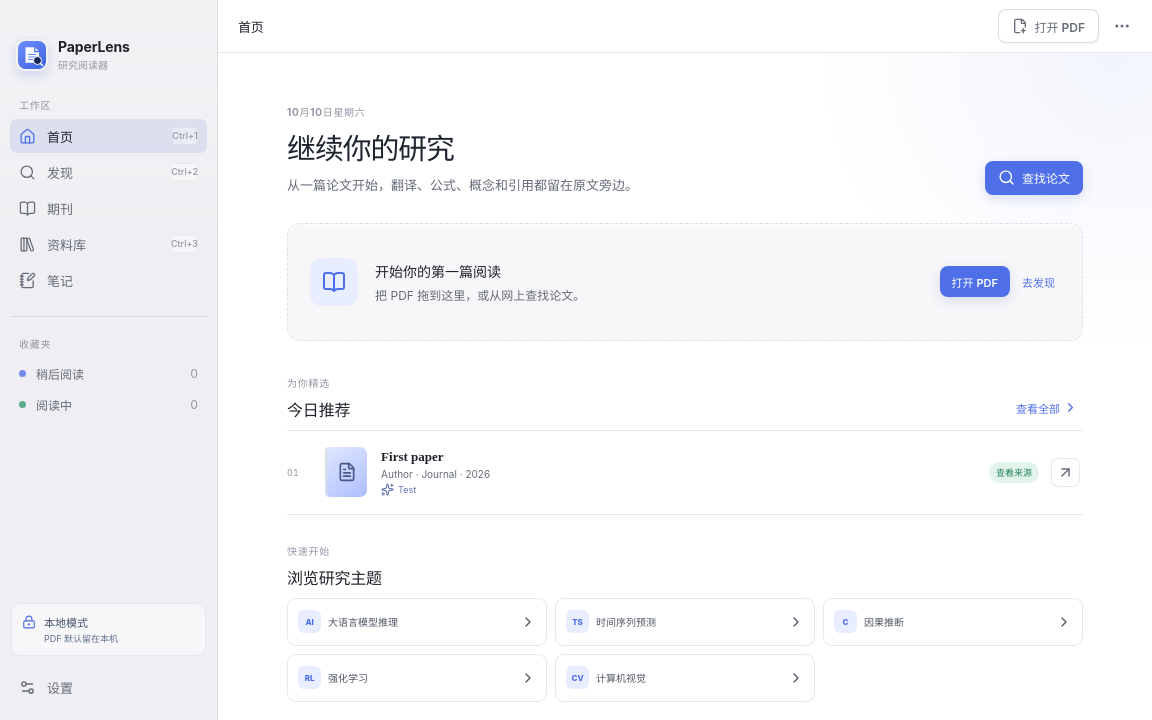
Test: discovery navigation › keeps a related paper selected even though it was not in the original results
This screenshot has width=1152, height=720.
Click the button named "查找 First paper" at (1065, 472), box 1051,458 -> 1080,487
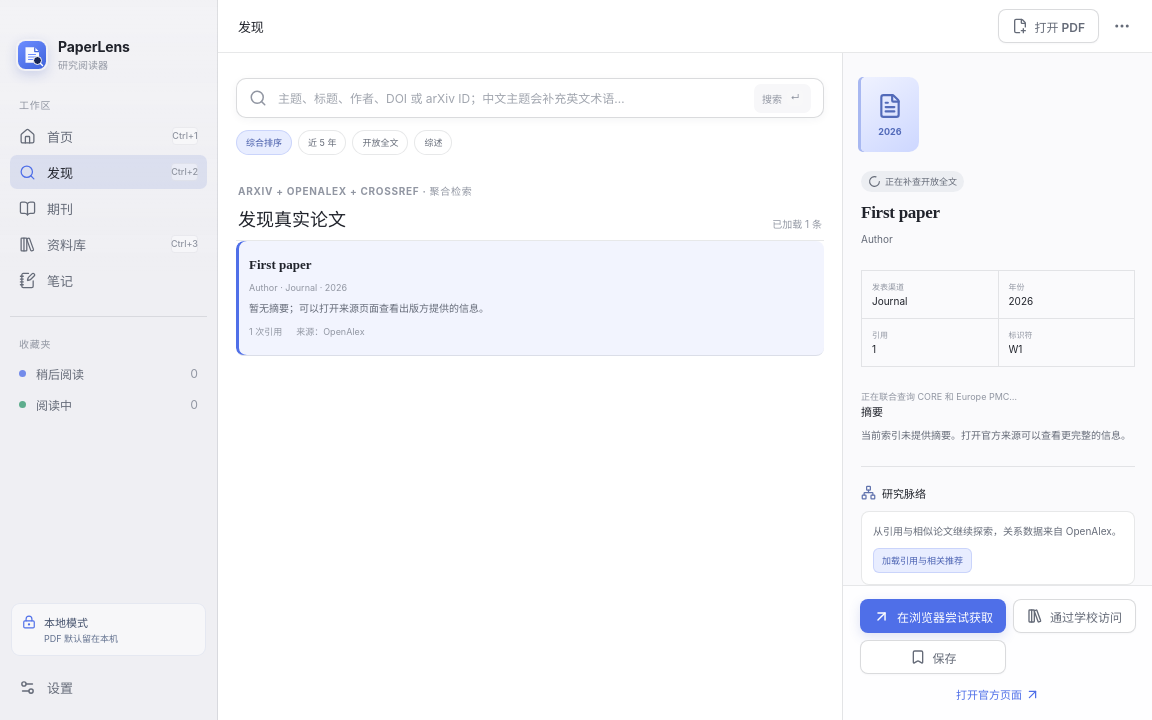
Click the button "加载引用与相关推荐" at (922, 561), box 873,548 -> 972,574
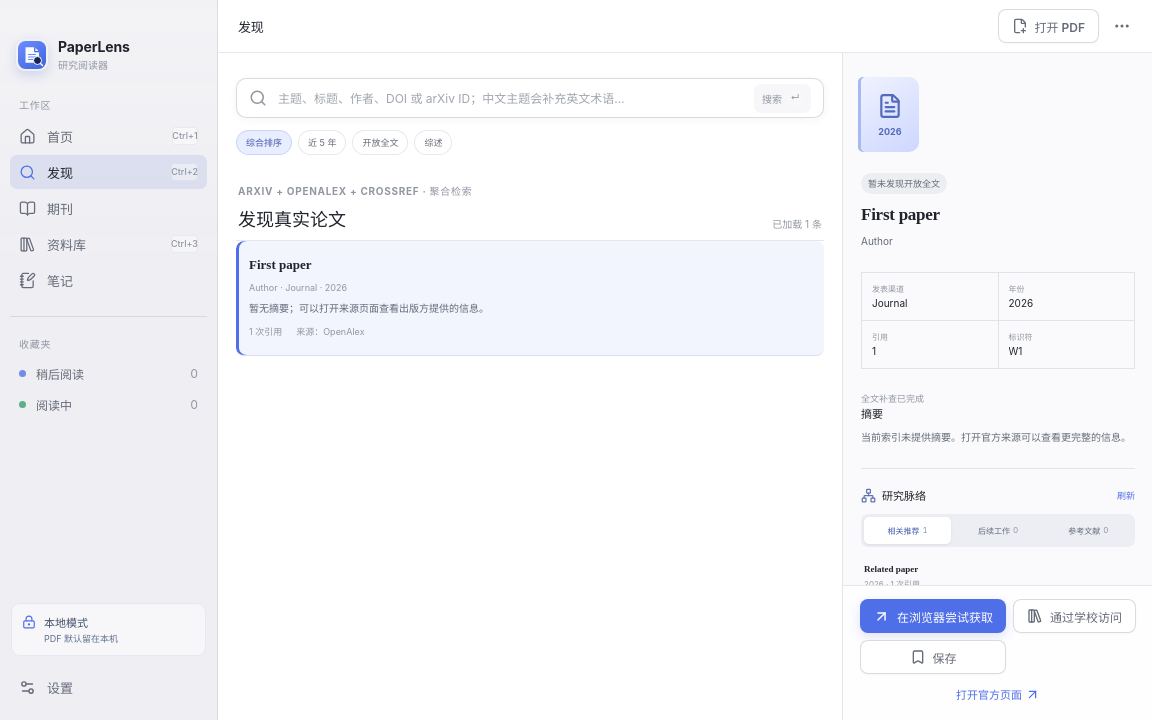
Click the button "Related paper 2026 · 1 次引用" at (891, 569), box 861,554 -> 1135,599
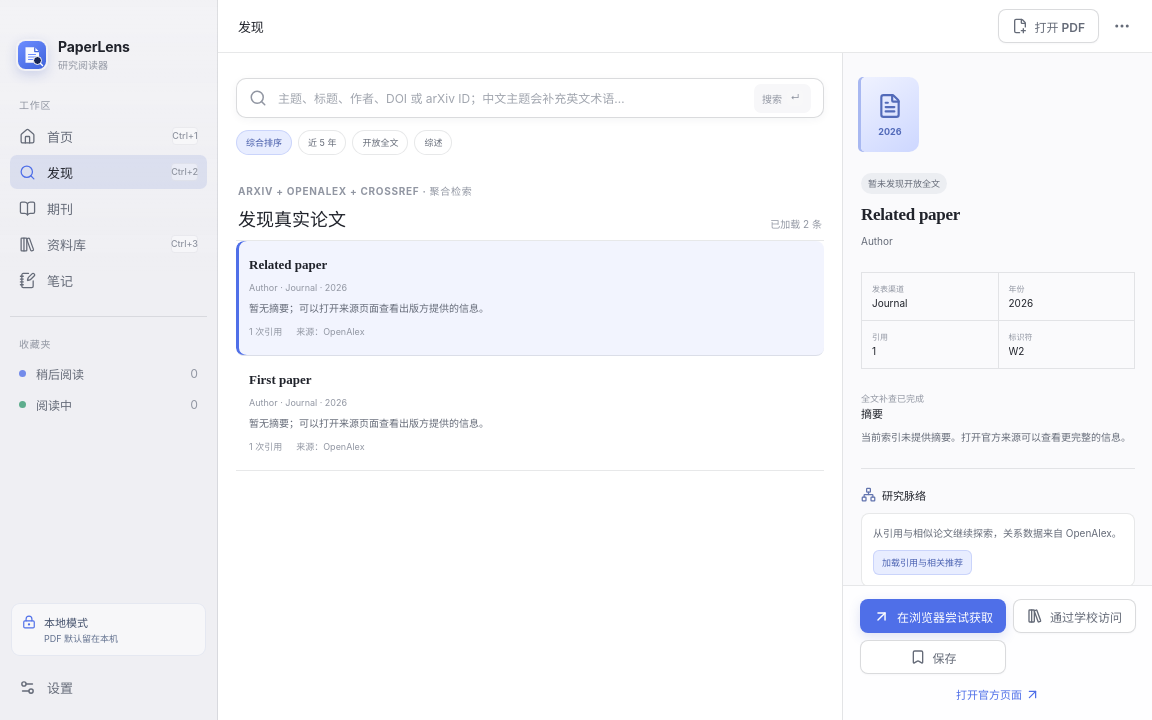
Result: the heading "Related paper" is shown at 861,205 -> 960,224
